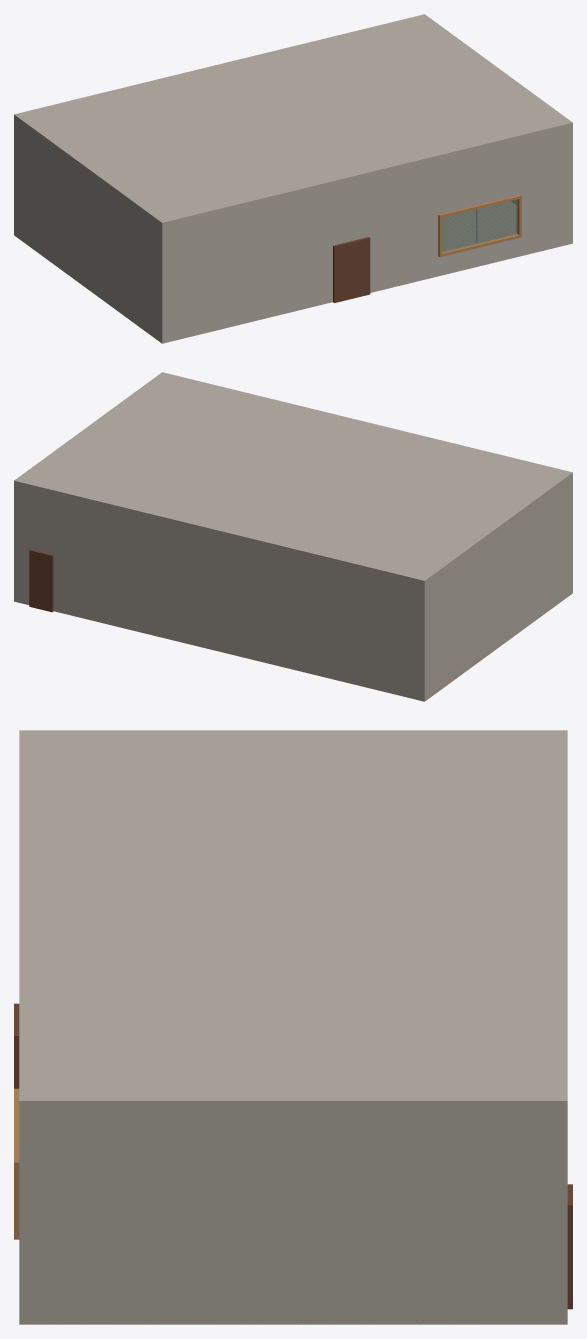
File: bar_architecture.glb
The picture shows the model from 3 angles, top to bottom: view 1: azimuth 30°, elevation 25°; view 2: azimuth 150°, elevation 25°; view 3: azimuth 270°, elevation 25°; orthographic projection. The views are drawn at different scales.
Parts seen in each view (by area): view 1: room_shell, ceiling, south_east_window_glass, north_south_floor_boards, south_main_entry, south_east_window; view 2: room_shell, ceiling, north_east_service_door; view 3: ceiling, room_shell, south_east_window, north_east_service_door.
Part boxes in pixels (box(x1,y1,x2,y2)): room_shell: box(14, 14, 572, 343); ceiling: box(14, 14, 572, 224); south_east_window_glass: box(442, 199, 517, 252); north_south_floor_boards: box(16, 201, 515, 337); south_main_entry: box(333, 237, 370, 302); south_east_window: box(438, 194, 521, 257); room_shell: box(14, 372, 572, 701); ceiling: box(14, 372, 572, 582); north_east_service_door: box(29, 549, 53, 612); ceiling: box(19, 730, 567, 1104); room_shell: box(19, 730, 567, 1324); south_east_window: box(14, 1088, 19, 1239); north_east_service_door: box(567, 1184, 572, 1309).
Bounding box in the file's own units: 16 × 4.5 × 10.2.
